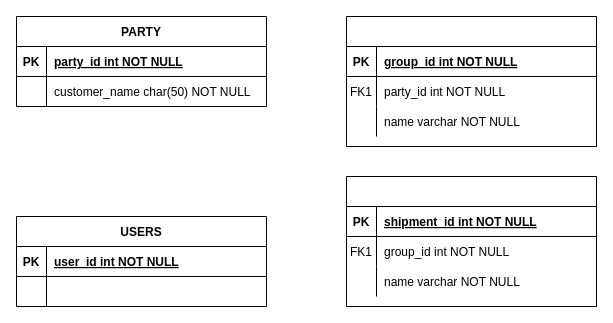
Image size: 613x323. Some labels were removed from this diagram. Each missing label, with the box of its shape:
GROUPS: (346, 16, 596, 146)
SUBGROUPS: (346, 176, 596, 306)
